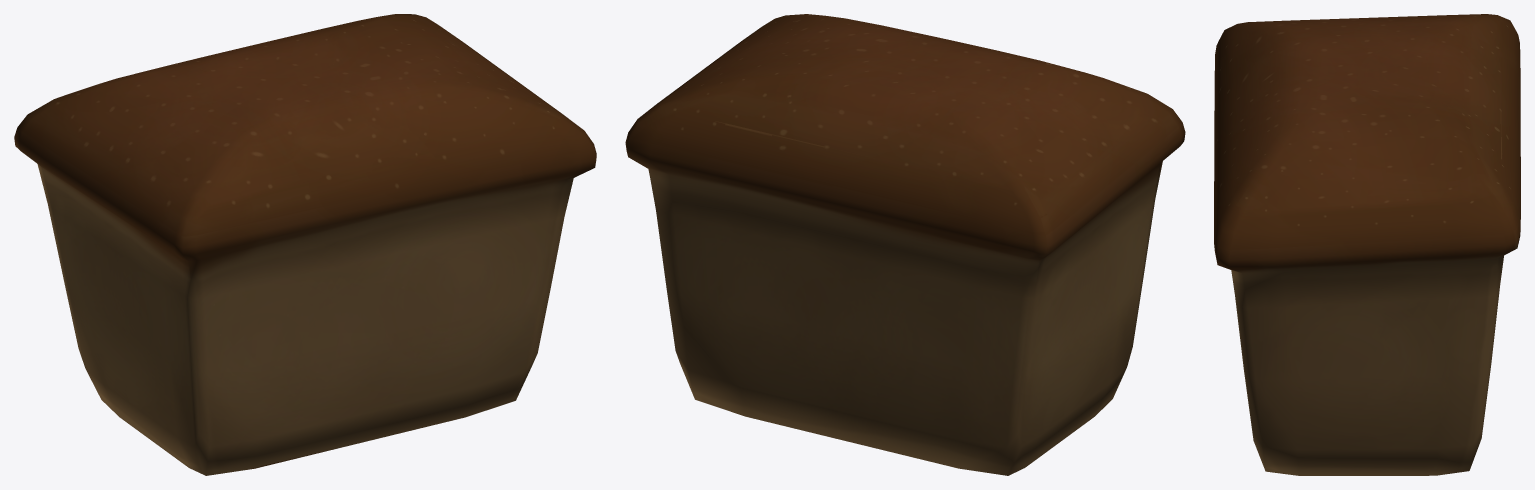
The model's file is RyeBread.fbx.
3 renders of one model, left to right at view 1: azimuth 30°, elevation 25°; view 2: azimuth 150°, elevation 25°; view 3: azimuth 270°, elevation 25°, orthographic. The views are drawn at different scales.
Visible parts, largest first — view 1: RyeBread; view 2: RyeBread; view 3: RyeBread.
Boxes of the visible parts, x1,y1,x2,y2 form: RyeBread: (14, 14, 596, 475); RyeBread: (625, 14, 1185, 475); RyeBread: (1214, 14, 1520, 475).
Size of the model in its own units: 132 by 98.11 by 81.84.
